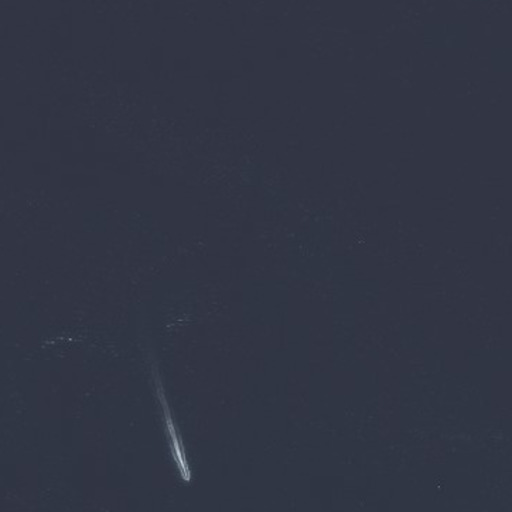ship: (175, 464, 195, 485)
